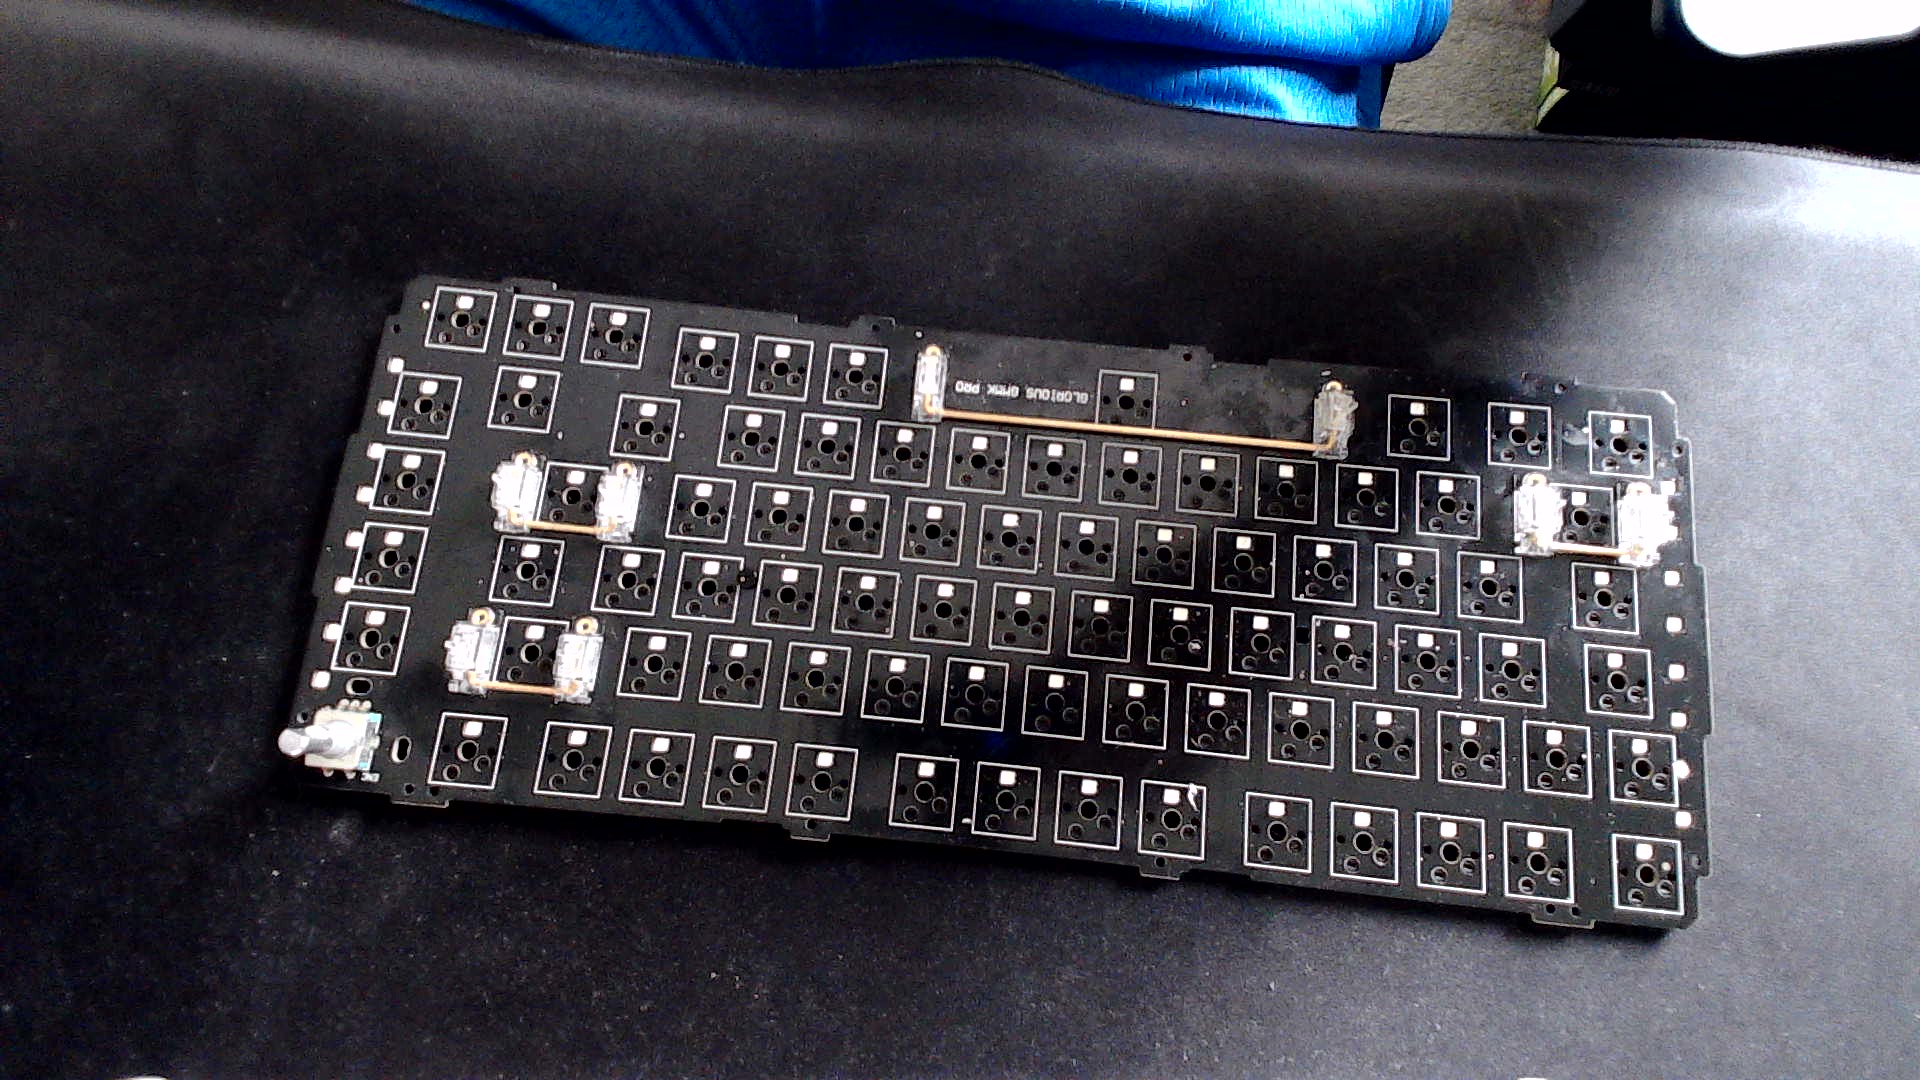pcb: (214, 248, 1755, 986)
